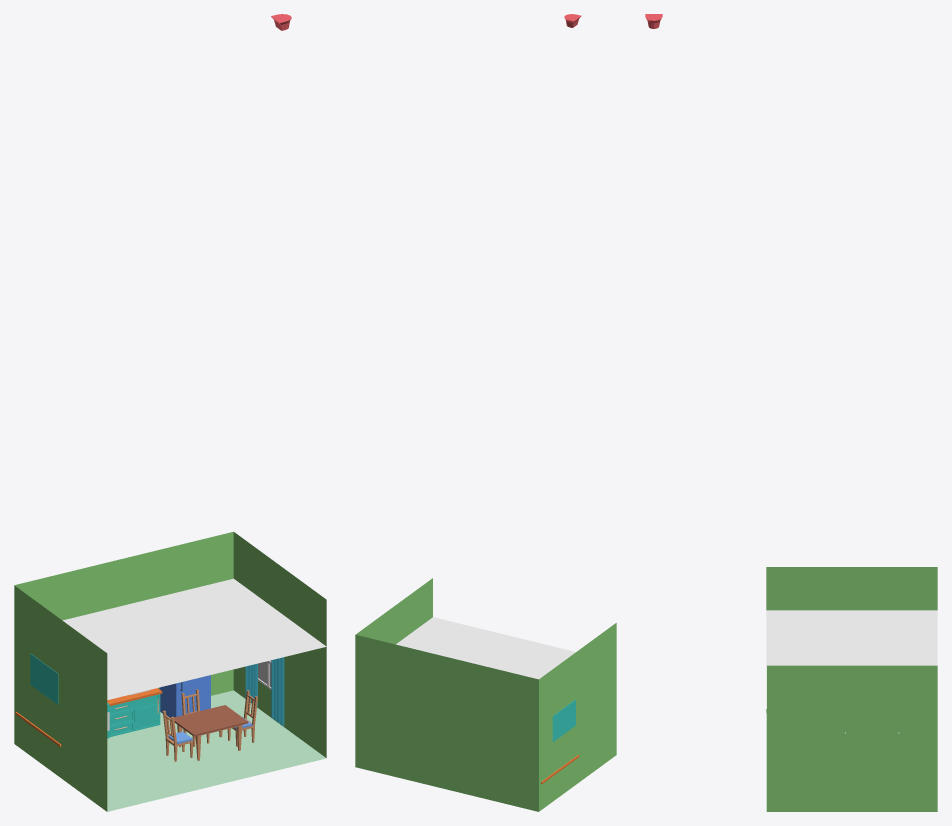
File: KITCHEN-ENVIRONMENT.fbx
The picture shows the model from 3 angles, left to right: view 1: azimuth 30°, elevation 25°; view 2: azimuth 150°, elevation 25°; view 3: azimuth 270°, elevation 25°; orthographic projection. The views are drawn at different scales.
Visible parts, largest first — view 1: wall, roof, Cube.036, door below, Plane.001, Cube.001; view 2: wall, roof; view 3: wall, roof.
Boxes of the visible parts, left/top/right/bottom form: wall: left=14, top=531, right=326, bottom=811; roof: left=62, top=578, right=326, bottom=699; Cube.036: left=174, top=705, right=248, bottom=760; door below: left=175, top=675, right=210, bottom=716; Plane.001: left=271, top=657, right=284, bottom=726; Cube.001: left=134, top=694, right=160, bottom=730; wall: left=355, top=578, right=616, bottom=811; roof: left=396, top=617, right=575, bottom=679; wall: left=766, top=567, right=937, bottom=811; roof: left=766, top=610, right=937, bottom=708.
Size of the model in its own units: 1780 by 6227 by 2208.
